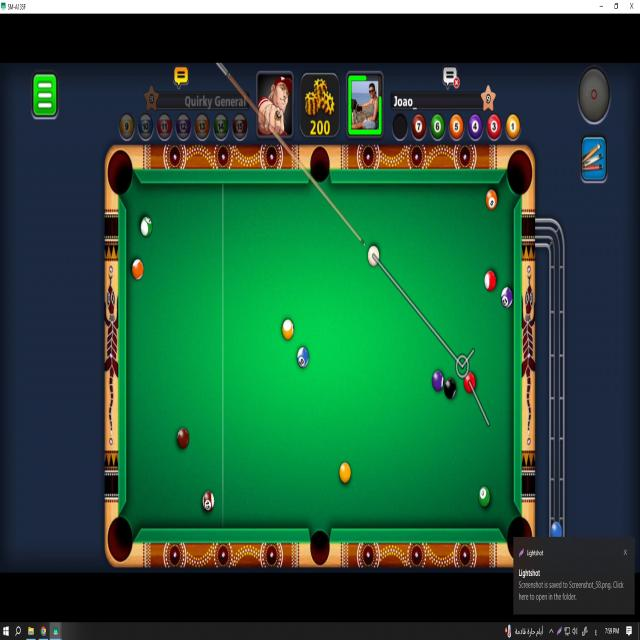object_ball: (177, 428, 189, 449), (501, 287, 512, 308), (282, 319, 293, 340), (132, 259, 143, 280), (444, 378, 455, 399), (464, 372, 475, 393), (297, 347, 308, 367), (486, 190, 497, 210), (203, 491, 214, 511), (141, 217, 152, 237), (432, 371, 443, 391), (339, 463, 350, 483), (485, 271, 496, 291), (479, 487, 489, 507)
white_cue_ball: (368, 245, 379, 266)
